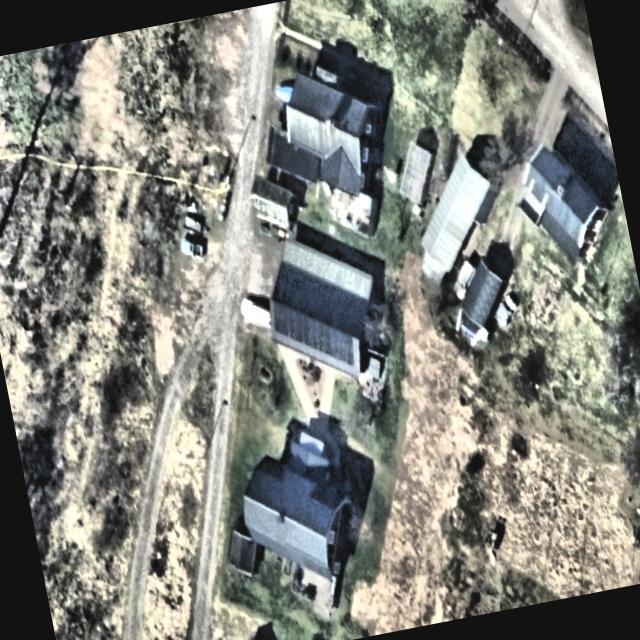roof_pv: (304, 303, 362, 378), (268, 300, 310, 358)
